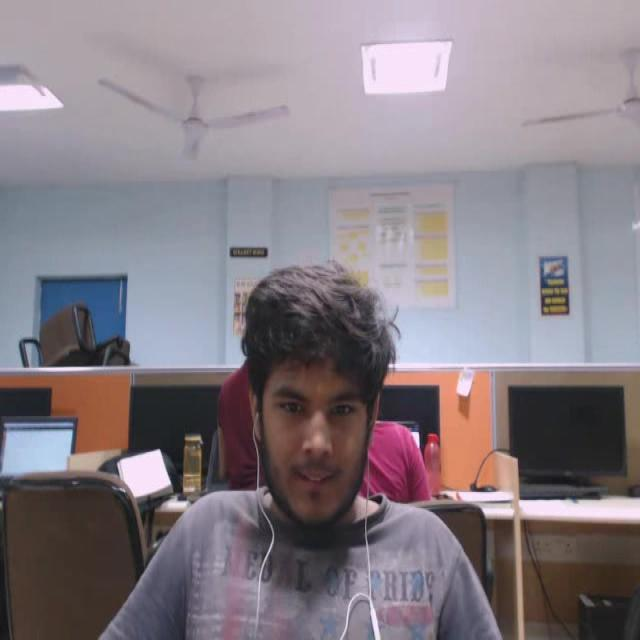Engaged: (207, 244, 430, 543)
